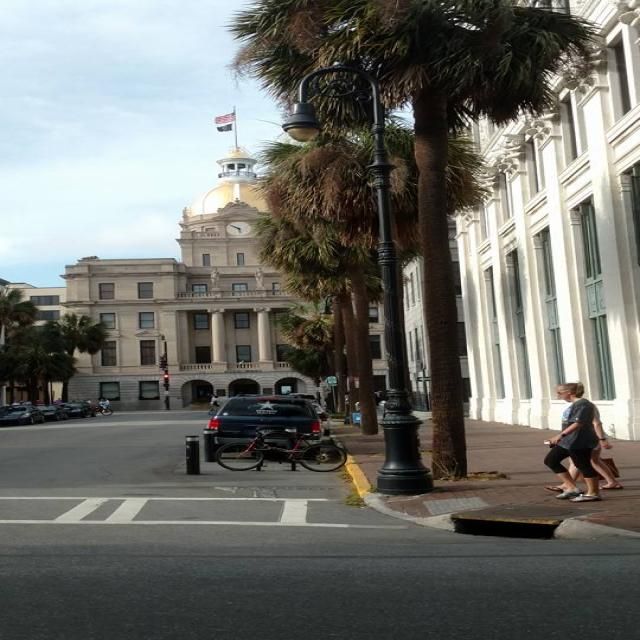Electric pole: (281, 62, 433, 495)
